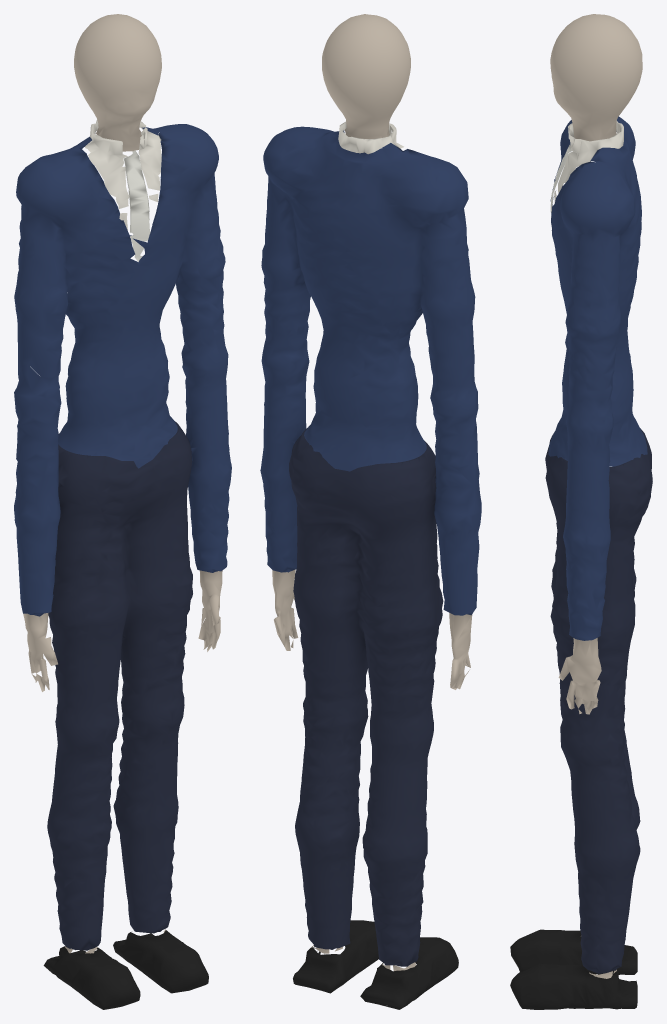
Rendered from teacher.glb.
3 views of the same model, side by side, from view 1: azimuth 30°, elevation 25°; view 2: azimuth 150°, elevation 25°; view 3: azimuth 270°, elevation 25° (orthographic).
Parts seen in each view (by area): view 1: dressed_teacher_jacket, dressed_teacher_trousers, dressed_teacher_skin, dressed_teacher_shoes, dressed_teacher_shirt, dressed_teacher_trim; view 2: dressed_teacher_jacket, dressed_teacher_trousers, dressed_teacher_skin, dressed_teacher_shoes, dressed_teacher_shirt; view 3: dressed_teacher_jacket, dressed_teacher_trousers, dressed_teacher_skin, dressed_teacher_shoes, dressed_teacher_shirt.
Part boxes in pixels (x1,y1,x2,y2): dressed_teacher_jacket: (14,124,231,616); dressed_teacher_trousers: (47,421,192,950); dressed_teacher_skin: (23,14,222,953); dressed_teacher_shoes: (43,930,208,1009); dressed_teacher_shirt: (85,120,161,230); dressed_teacher_trim: (123,150,150,261); dressed_teacher_jacket: (260,126,481,615); dressed_teacher_trousers: (289,428,443,966); dressed_teacher_skin: (272,14,472,970); dressed_teacher_shoes: (293,920,458,1009); dressed_teacher_shirt: (338,121,403,154); dressed_teacher_jacket: (548,116,647,640); dressed_teacher_trousers: (545,428,652,973); dressed_teacher_skin: (550,14,642,978); dressed_teacher_shoes: (510,929,637,1009); dressed_teacher_shirt: (552,120,623,202).
Size of the model in its own units: 0.582 by 2.5 by 0.3342.
